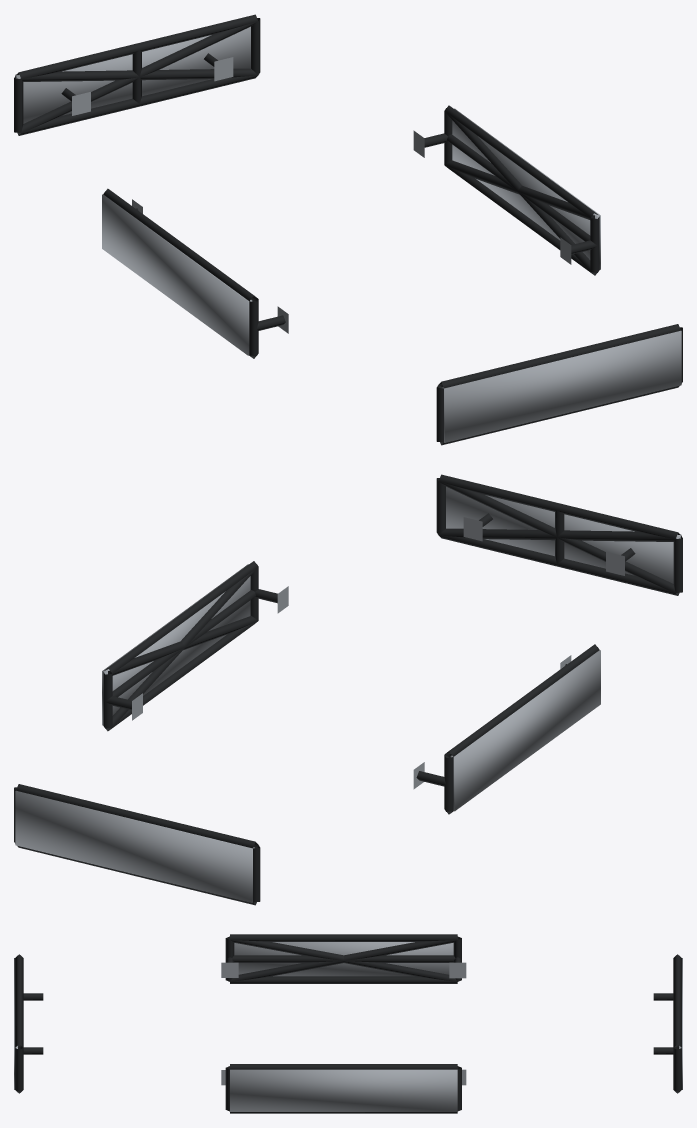
The model's file is castellani_ecoa_protecao.glb.
3 renders of one model, top to bottom at view 1: azimuth 30°, elevation 25°; view 2: azimuth 150°, elevation 25°; view 3: azimuth 270°, elevation 25°, orthographic. The views are drawn at different scales.
Visible parts, largest first — view 1: Protection_front_Level3_Details, Protection_left_Level3_Details, Protection_rear_Level1_Details, Protection_rear_Level3_Details, Protection_right_Level1_Details, Protection_rear_Level2_Details, Protection_right_Level2_Details, Protection_right_Level3_Details, Protection_front_Level1_Details, Protection_left_Level1_Details; view 2: Protection_rear_Level3_Details, Protection_left_Level3_Details, Protection_front_Level1_Details, Protection_front_Level3_Details, Protection_right_Level1_Details, Protection_front_Level2_Details, Protection_right_Level2_Details, Protection_right_Level3_Details, Protection_rear_Level1_Details, Protection_left_Level1_Details; view 3: Protection_right_Level3_Details, Protection_left_Level2_Details, Protection_left_Level1_Details, Protection_left_Level3_Details, Protection_right_Level1_Details, Protection_rear_Level1_Details, Protection_front_Level1_Details.
Part boxes in pixels (x1,y1,x2,y2): Protection_front_Level3_Details: (442, 330, 681, 442); Protection_left_Level3_Details: (102, 194, 252, 355); Protection_rear_Level1_Details: (14, 14, 260, 135); Protection_rear_Level3_Details: (15, 26, 250, 123); Protection_right_Level1_Details: (413, 105, 599, 275); Protection_rear_Level2_Details: (16, 21, 257, 134); Protection_right_Level2_Details: (444, 112, 597, 275); Protection_right_Level3_Details: (452, 108, 600, 269); Protection_front_Level1_Details: (436, 324, 682, 445); Protection_left_Level1_Details: (103, 188, 288, 358); Protection_rear_Level3_Details: (15, 790, 254, 902); Protection_left_Level3_Details: (450, 650, 600, 811); Protection_front_Level1_Details: (436, 474, 682, 595); Protection_front_Level3_Details: (446, 486, 681, 583); Protection_right_Level1_Details: (103, 561, 288, 731); Protection_front_Level2_Details: (439, 481, 680, 594); Protection_right_Level2_Details: (104, 567, 258, 730); Protection_right_Level3_Details: (102, 564, 250, 725); Protection_rear_Level1_Details: (14, 784, 260, 905); Protection_left_Level1_Details: (413, 644, 599, 814); Protection_right_Level3_Details: (230, 1069, 457, 1111); Protection_left_Level2_Details: (229, 937, 457, 981); Protection_left_Level1_Details: (221, 934, 466, 983); Protection_left_Level3_Details: (234, 942, 453, 976); Protection_right_Level1_Details: (221, 1064, 466, 1113); Protection_rear_Level1_Details: (653, 954, 681, 1093); Protection_front_Level1_Details: (15, 954, 43, 1093).
Bounding box in the file's own units: 2.05 × 0.354 × 4.32.
Materials: 1 (1 with a texture image).
